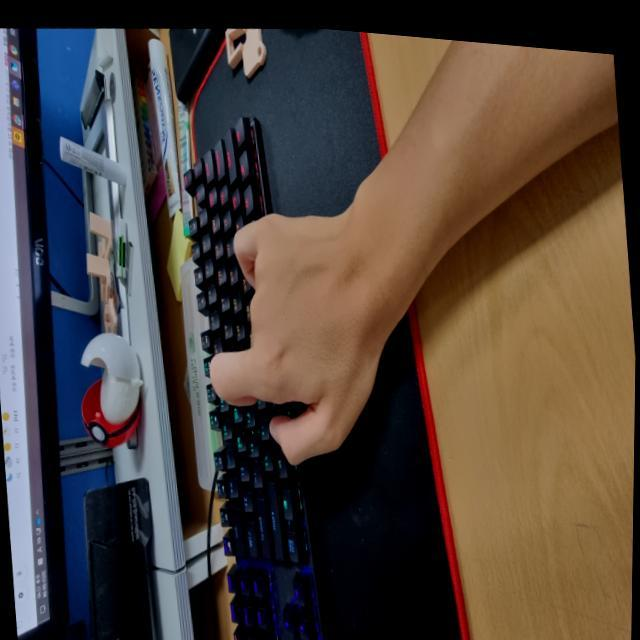keyboard-with-hands: (182, 111, 330, 640)
